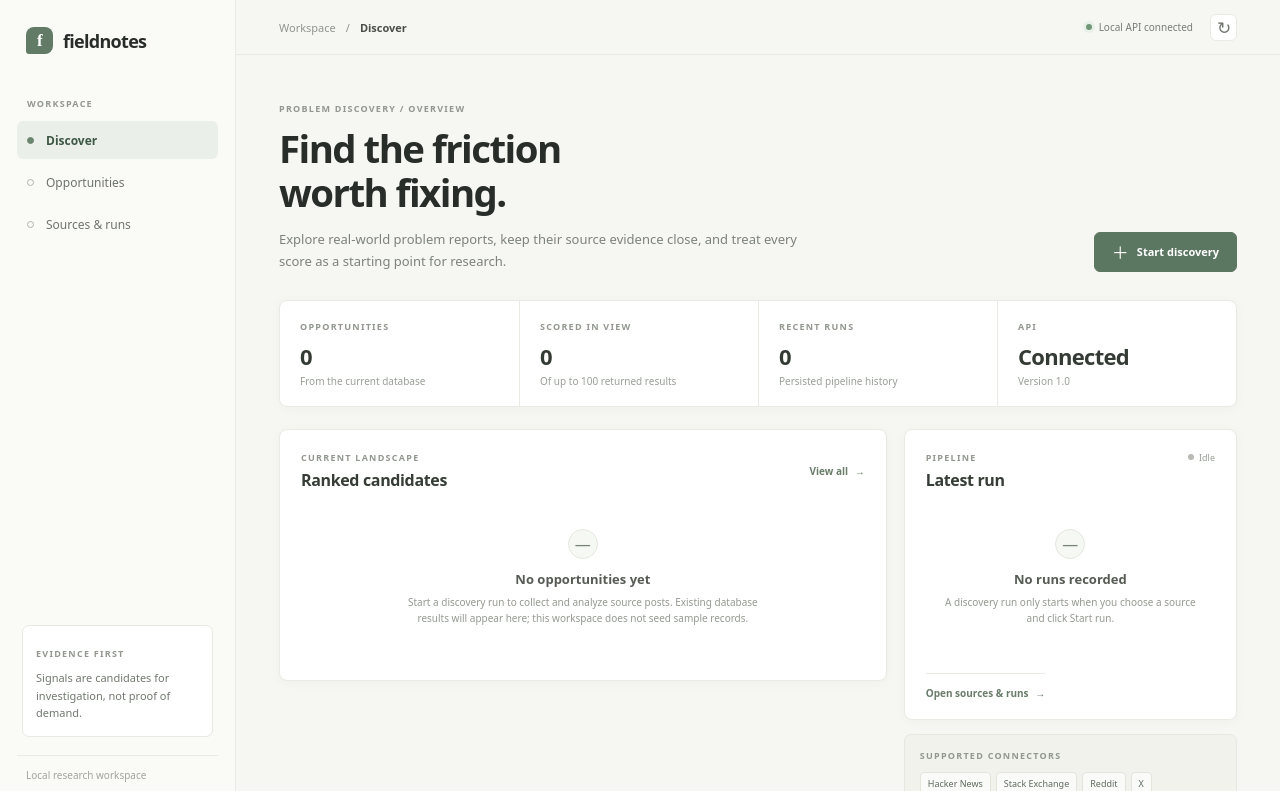
Test: Fieldnotes workspace › constructs a real-schema run request only after an explicit submit
Click the link "Sources & runs". click: (79, 224)
box: [27,216,131,232]
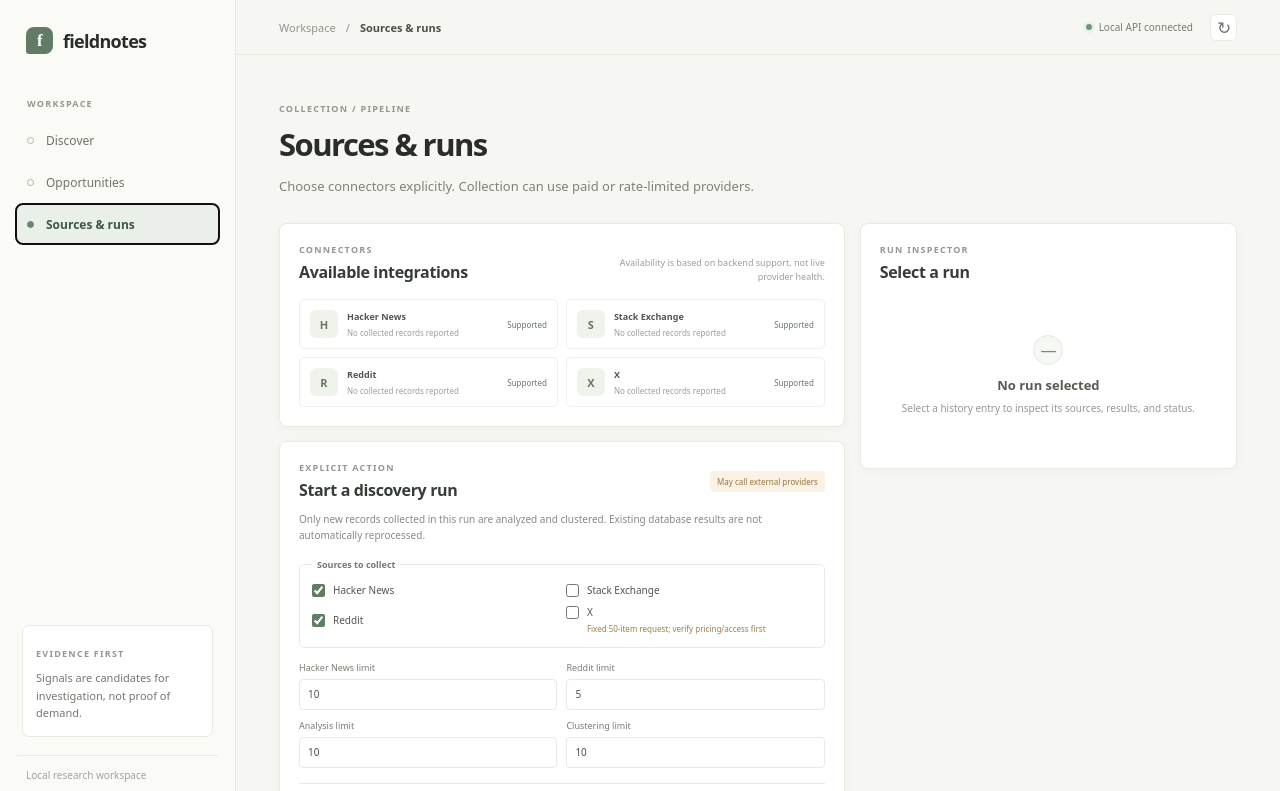
Click the checkbox labelled "Hacker News". click: (318, 590)
box: [312,584,325,597]
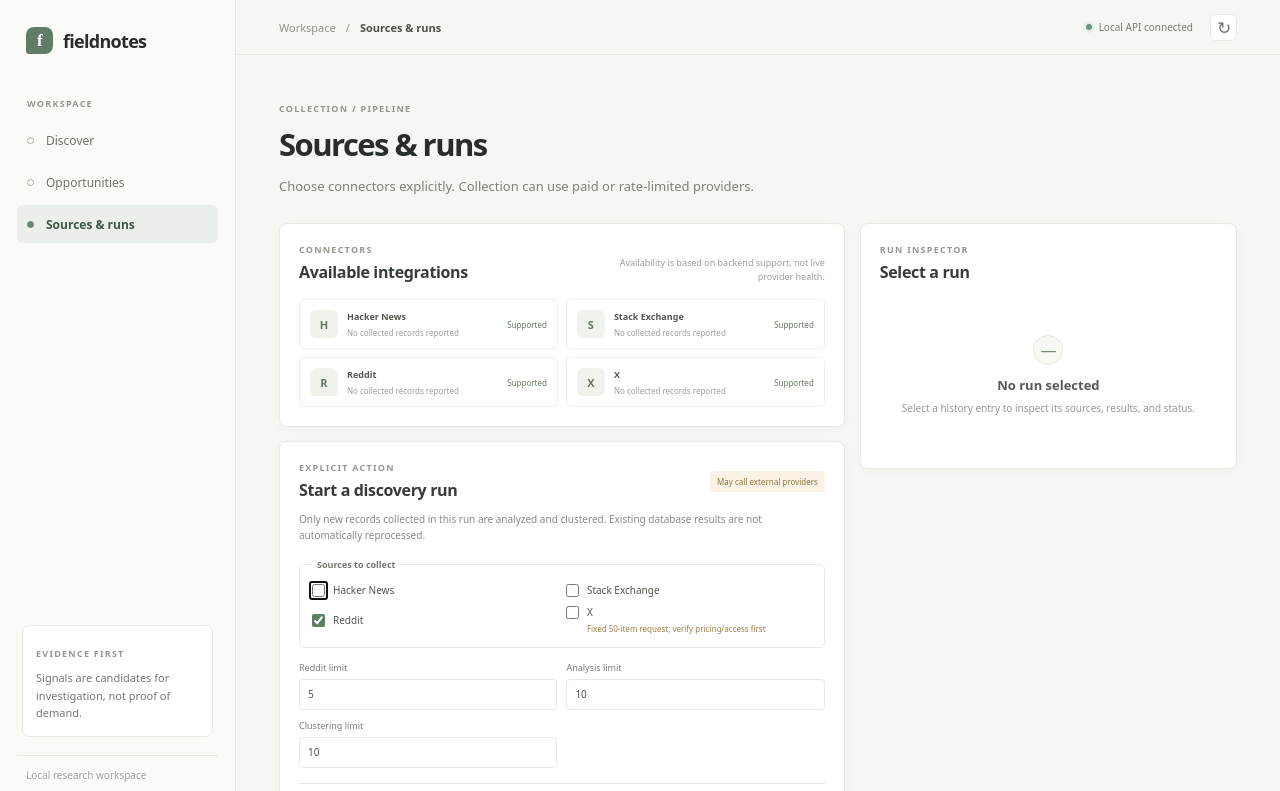
Click the checkbox labelled "X Fixed 50-item request; verify pricing/access first". click: (572, 612)
box: [566,606,579,619]
(page scrolled)
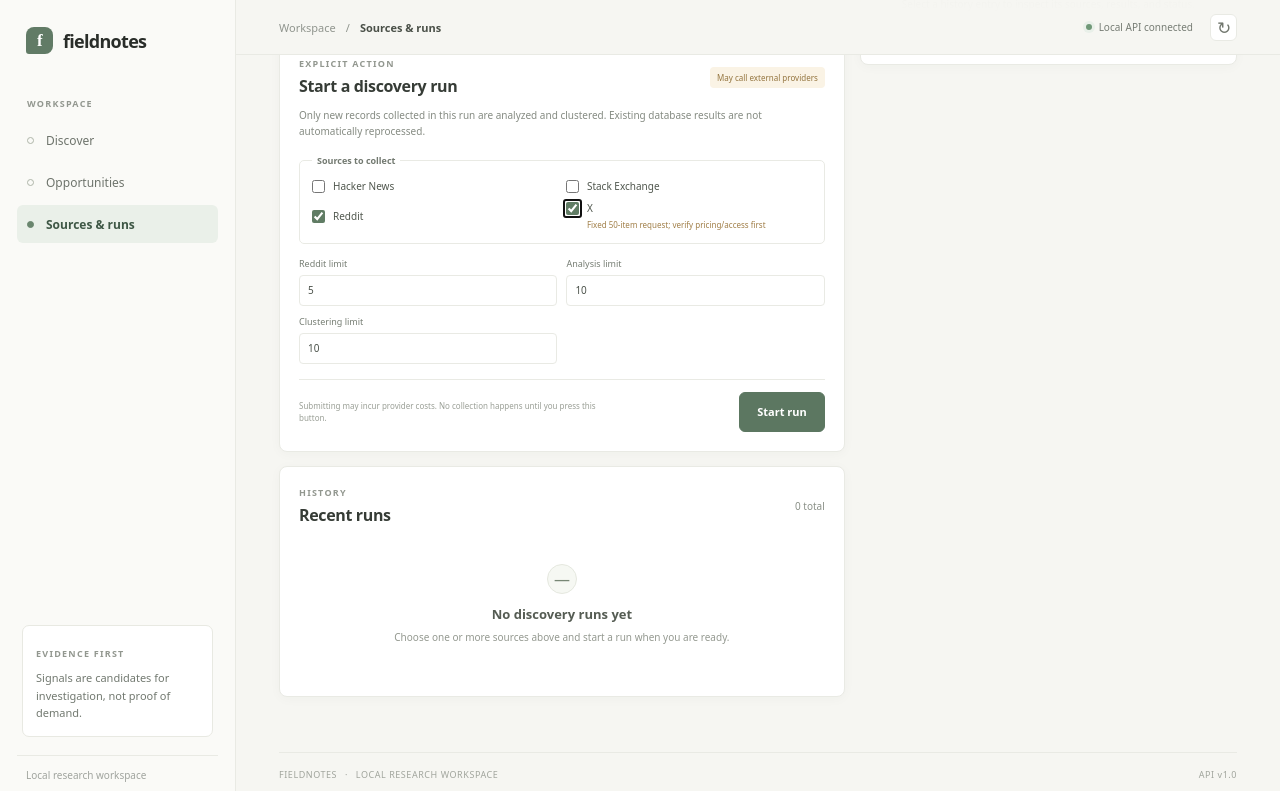
Click the button "Start run". click: (782, 412)
box: [739,392,825,432]
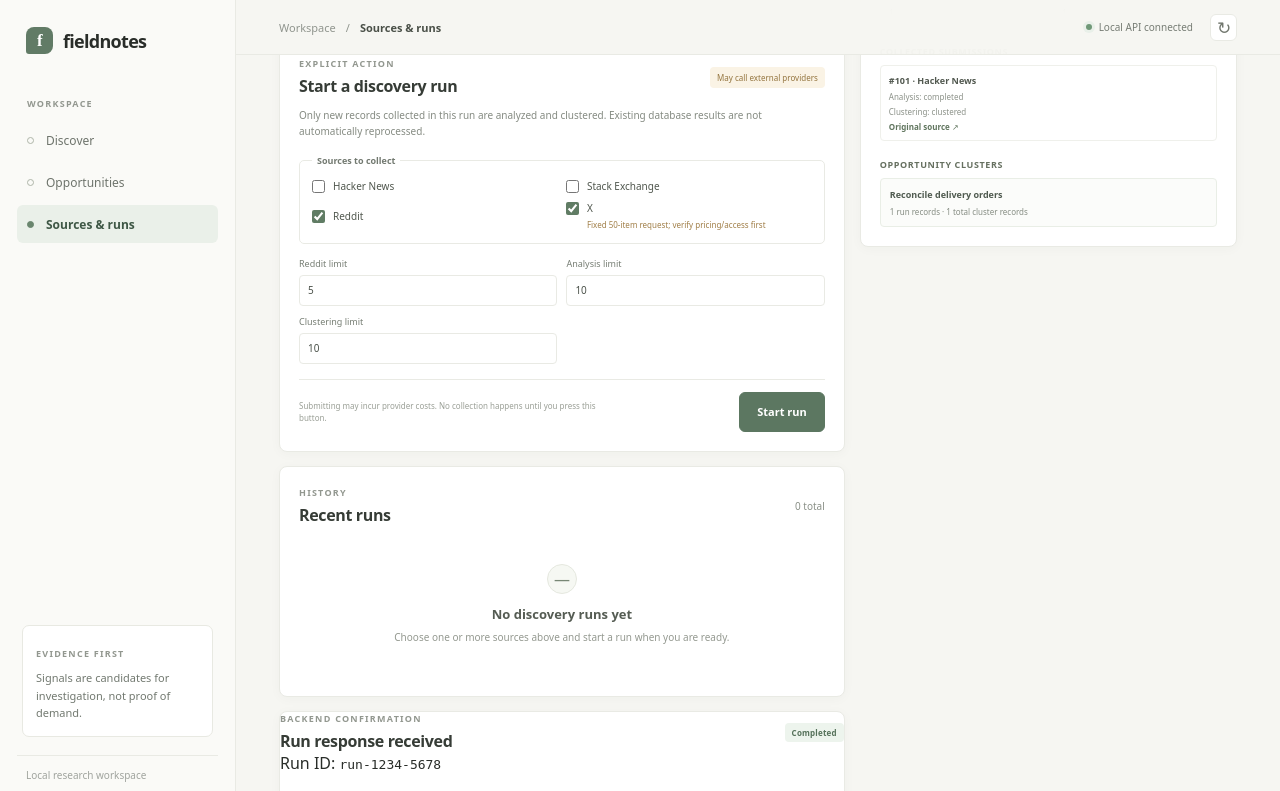
Result: the heading "Run response received" is shown at [280,730,452,752]
Result: the text "run-1234-5678" is shown at [340,757,441,772]
